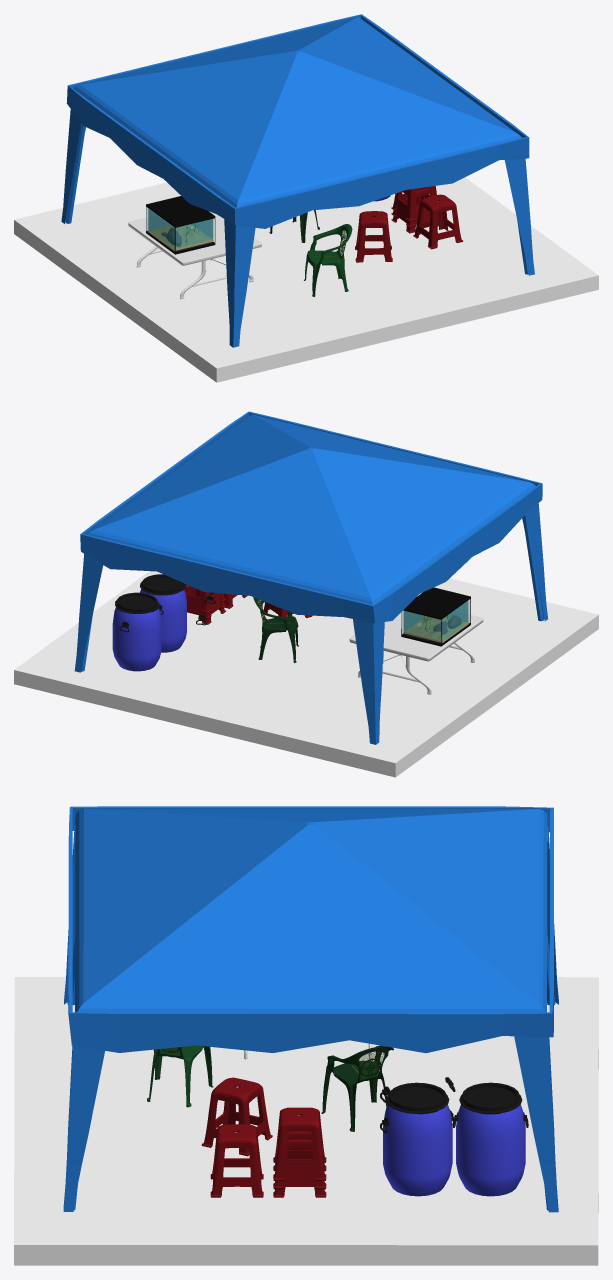
The model's file is kios-4.glb.
3 renders of one model, top to bottom at view 1: azimuth 30°, elevation 25°; view 2: azimuth 150°, elevation 25°; view 3: azimuth 270°, elevation 25°, orthographic. The views are drawn at different scales.
Visible parts, largest first — view 1: Cube.001_0.007, Kubus.007, defaultMaterial.159, Object_2.893, polySurface35_phongE1_0.020, polySurface35_phong1_0.020, polySurface35_phong2_0.020, Object_4.035, Object_2.892, polySurface35_lambert4_0.020, Object_2.894; view 2: Cube.001_0.007, Kubus.007, defaultMaterial.156, defaultMaterial.159, polySurface35_phongE1_0.020, polySurface35_phong1_0.020, defaultMaterial.147, polySurface35_phong2_0.020, Object_4.034, polySurface35_lambert4_0.020, defaultMaterial.158, defaultMaterial.145; view 3: Cube.001_0.007, Kubus.007, defaultMaterial.156, defaultMaterial.147, Object_2.892, Object_2.893, Object_2.894, Object_4.034, defaultMaterial.158, defaultMaterial.145, Object_4.035, Object_2.895 (+1 smaller).
Part boxes in pixels (x1,y1,x2,y2): Cube.001_0.007: [61, 14, 534, 347]; Kubus.007: [14, 177, 598, 382]; defaultMaterial.159: [128, 211, 261, 299]; Object_2.893: [413, 194, 462, 249]; polySurface35_phongE1_0.020: [146, 196, 215, 254]; polySurface35_phong1_0.020: [147, 208, 214, 250]; polySurface35_phong2_0.020: [148, 209, 212, 248]; Object_4.035: [304, 224, 352, 296]; Object_2.892: [355, 211, 392, 262]; polySurface35_lambert4_0.020: [148, 224, 213, 251]; Object_2.894: [391, 186, 438, 221]; Cube.001_0.007: [74, 411, 548, 744]; Kubus.007: [14, 571, 598, 777]; defaultMaterial.156: [112, 607, 161, 671]; defaultMaterial.159: [349, 610, 483, 694]; polySurface35_phongE1_0.020: [401, 587, 470, 646]; polySurface35_phong1_0.020: [402, 599, 469, 642]; defaultMaterial.147: [139, 588, 186, 652]; polySurface35_phong2_0.020: [403, 601, 468, 641]; Object_4.034: [253, 597, 298, 663]; polySurface35_lambert4_0.020: [403, 616, 468, 642]; defaultMaterial.158: [116, 592, 157, 612]; defaultMaterial.145: [142, 574, 183, 593]; Cube.001_0.007: [63, 806, 558, 1212]; Kubus.007: [14, 977, 598, 1265]; defaultMaterial.156: [456, 1104, 525, 1196]; defaultMaterial.147: [383, 1104, 452, 1196]; Object_2.892: [201, 1077, 272, 1156]; Object_2.893: [210, 1124, 263, 1197]; Object_2.894: [273, 1107, 326, 1180]; Object_4.034: [321, 1045, 393, 1131]; defaultMaterial.158: [461, 1082, 519, 1111]; defaultMaterial.145: [388, 1082, 446, 1111]; Object_4.035: [147, 1045, 213, 1107]; Object_2.895: [273, 1121, 326, 1189].
Size of the model in its own units: 2.37 by 1.25 by 2.18.
